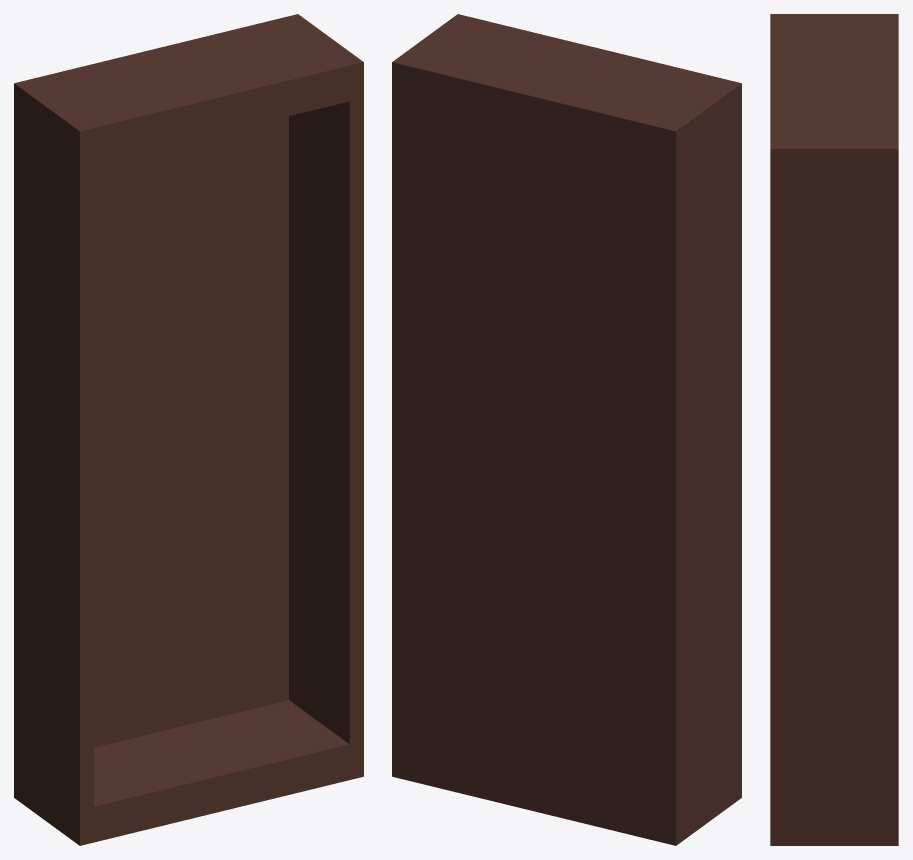
Rendered from shelf_box.dae.
The picture shows the model from 3 angles, left to right: view 1: azimuth 30°, elevation 25°; view 2: azimuth 150°, elevation 25°; view 3: azimuth 270°, elevation 25°; orthographic projection. The views are drawn at different scales.
Parts seen in each view (by area): view 1: Node_0x55ba596739b0; view 2: Node_0x55ba596739b0; view 3: Node_0x55ba596739b0.
Boxes of the visible parts, x1,y1,x2,y2 form: Node_0x55ba596739b0: [14, 14, 363, 845]; Node_0x55ba596739b0: [392, 14, 741, 845]; Node_0x55ba596739b0: [770, 14, 898, 845].
Size of the model in its own units: 80.2 by 193 by 32.2.
